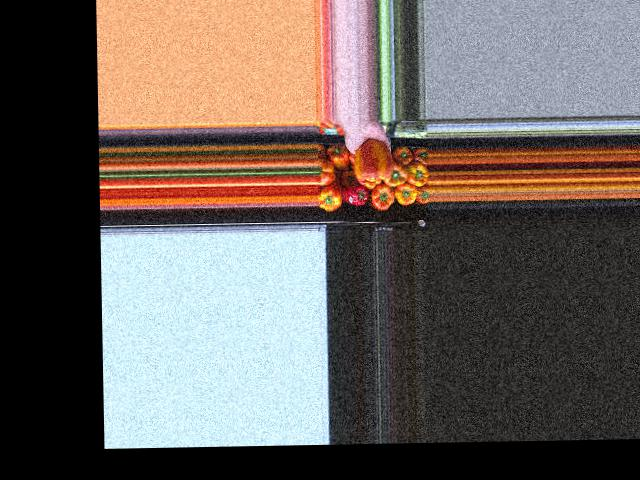bell_pepper: (324, 147, 351, 168)
